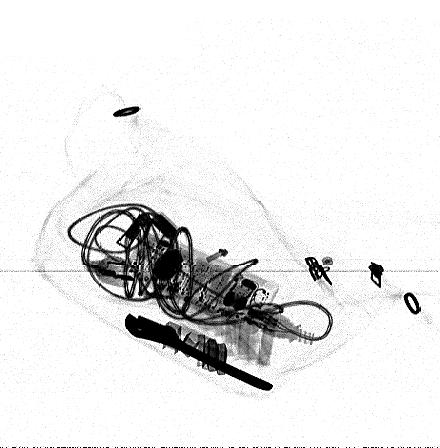Wrench: (123, 311, 276, 393)
